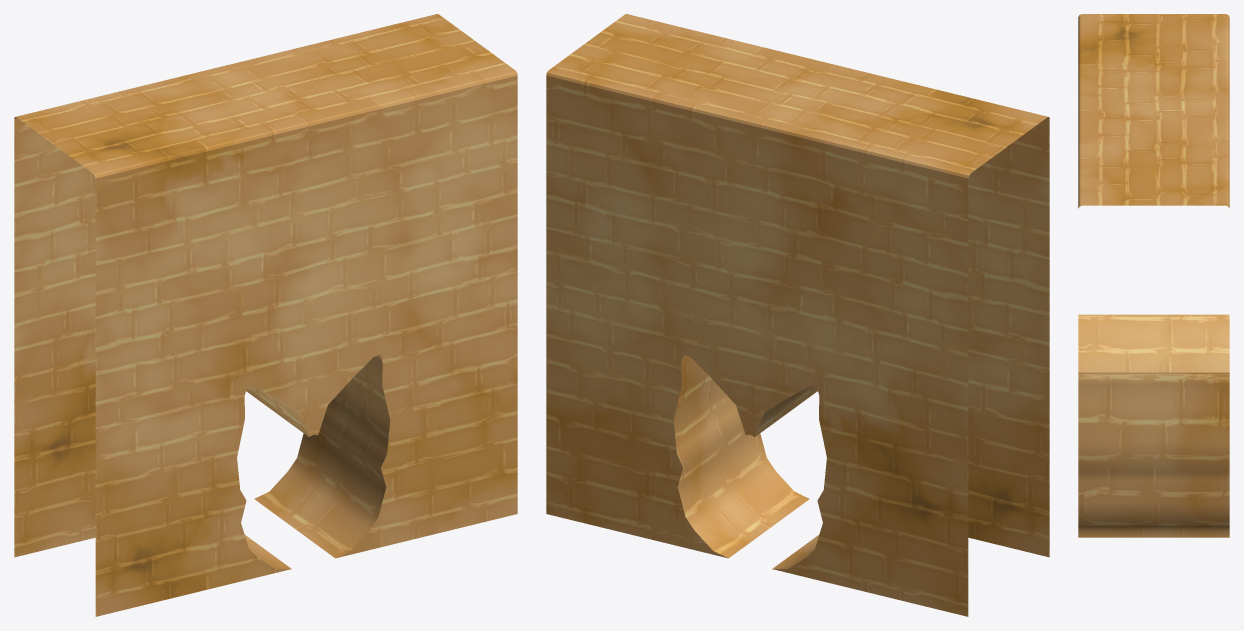
File: SM_Env_Wall_CatHole_Center_B.fbx
3 views of the same model, side by side, from view 1: azimuth 30°, elevation 25°; view 2: azimuth 150°, elevation 25°; view 3: azimuth 270°, elevation 25° (orthographic). The views are drawn at different scales.
Parts seen in each view (by area): view 1: Wall_CatHole_Center; view 2: Wall_CatHole_Center; view 3: Wall_CatHole_Center.
Boxes of the visible parts, x1=… form: Wall_CatHole_Center: x1=14, y1=14, x2=517, y2=616; Wall_CatHole_Center: x1=546, y1=14, x2=1049, y2=616; Wall_CatHole_Center: x1=1078, y1=14, x2=1229, y2=537.
Bounding box in the file's own units: 300 × 300 × 100.
Materials: 1 (1 with a texture image).
